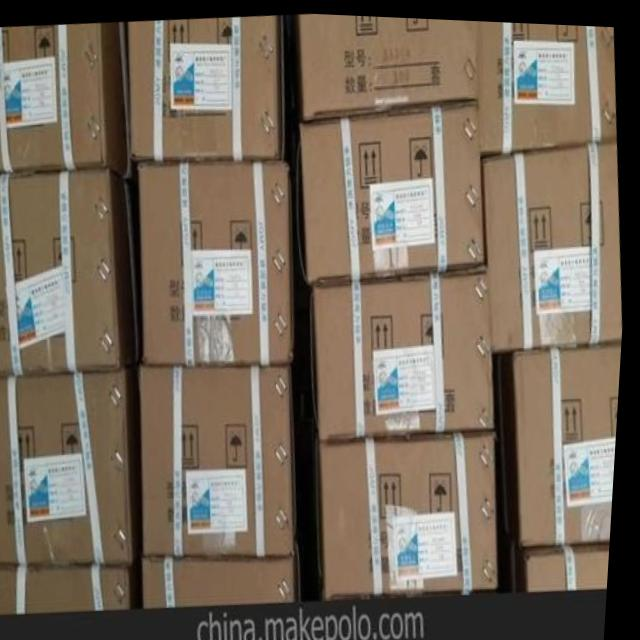box: (138, 146, 316, 364), (146, 344, 325, 556), (302, 98, 490, 281), (313, 259, 498, 432), (319, 425, 504, 594), (0, 165, 145, 374), (484, 138, 625, 349), (0, 362, 147, 563), (495, 338, 625, 544), (127, 11, 304, 157), (0, 20, 139, 176), (299, 11, 481, 120), (478, 17, 617, 153), (148, 521, 331, 606), (0, 555, 151, 616), (502, 537, 616, 585)
